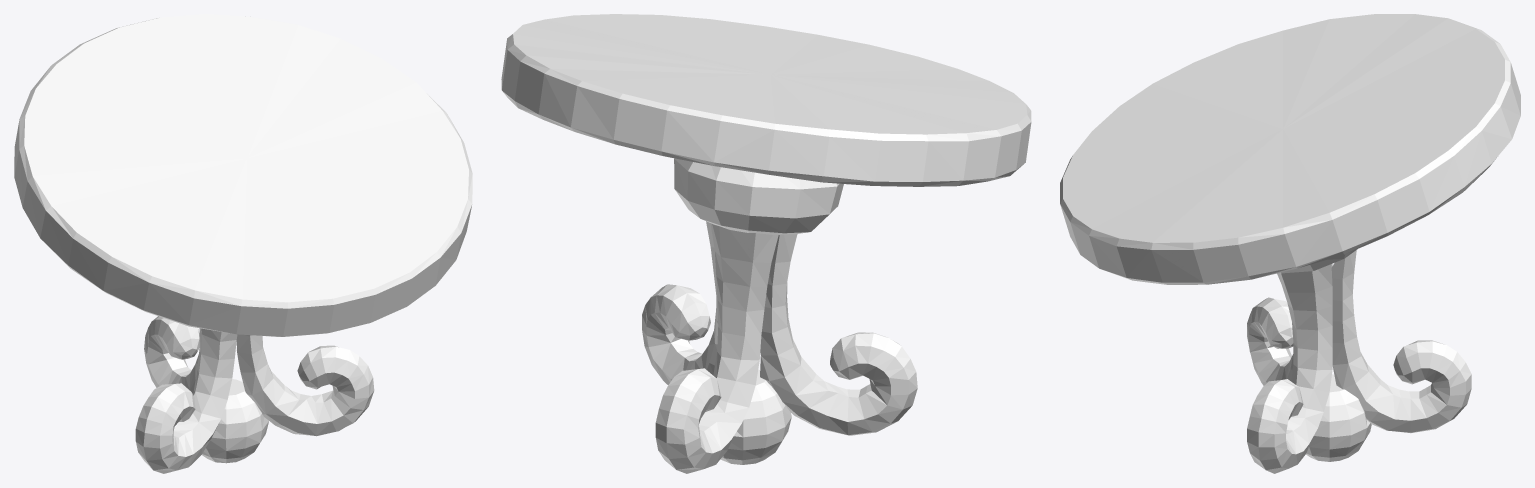
Rendered from g_f_table.glb.
3 views of the same model, side by side, from view 1: azimuth 30°, elevation 25°; view 2: azimuth 150°, elevation 25°; view 3: azimuth 270°, elevation 25° (orthographic). The views are drawn at different scales.
Visible parts, largest first — view 1: geometry_0; view 2: geometry_0; view 3: geometry_0.
Boxes of the visible parts, <box> form: geometry_0: <box>14,14,472,473</box>; geometry_0: <box>501,14,1031,473</box>; geometry_0: <box>1060,14,1520,473</box>.
Size of the model in its own units: 0.1611 by 0.1436 by 0.1553.
1 material, 1 textured.
